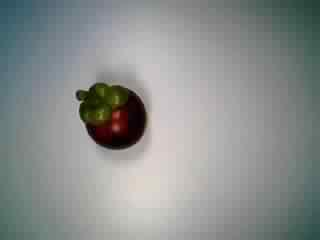mangosteen: (71, 79, 152, 150)
